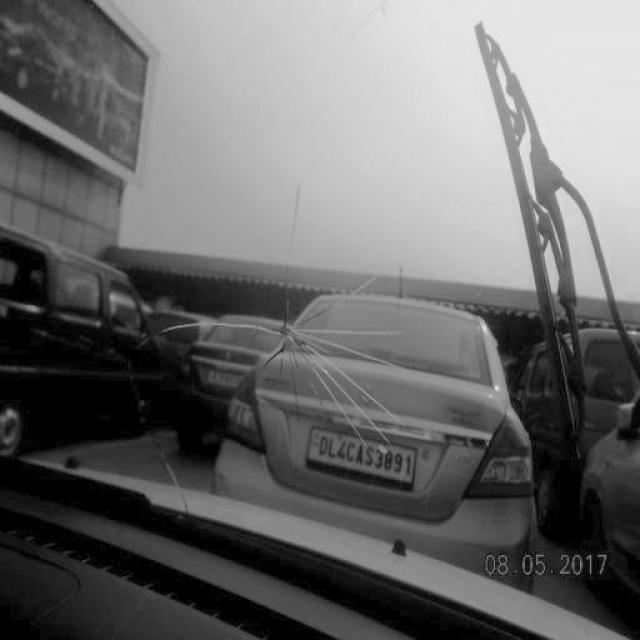car damage: (161, 201, 407, 460)
